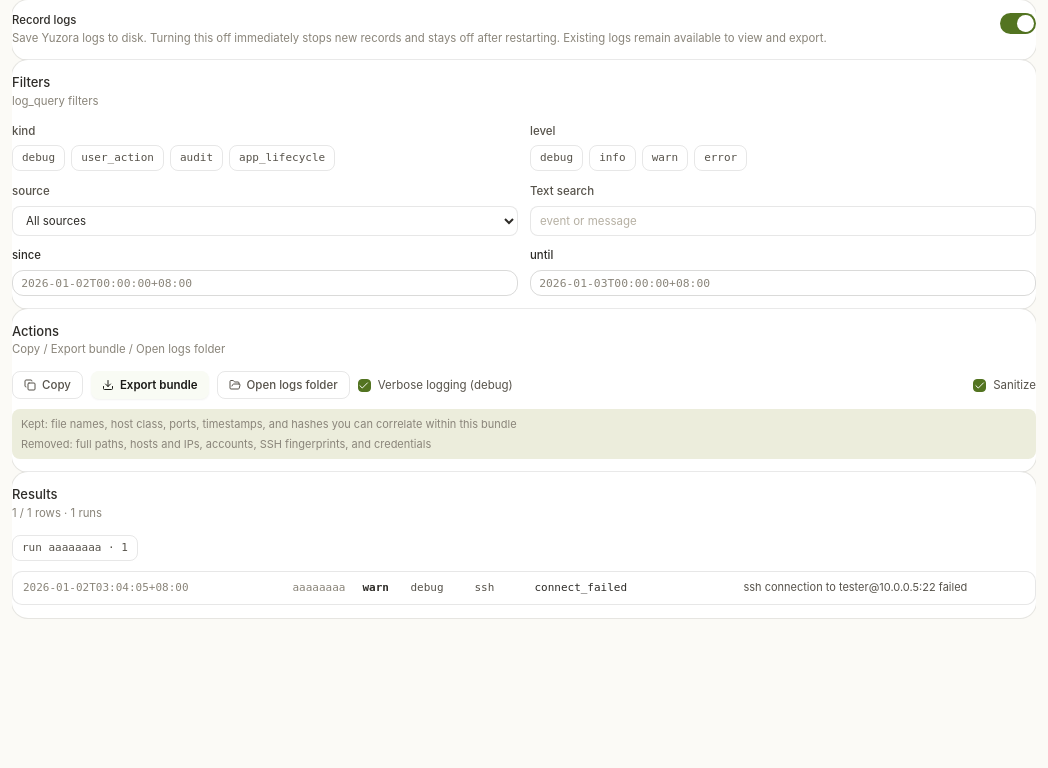
Scenario: LogsSection recording › disables recording, preserves verbose preference, and still shows existing logs
Expected: the button with test id "log-row-connect_failed" is shown, [13, 572, 1035, 604]
Expected: the checkbox named "Verbose logging (debug)" next to "Verbose logging (debug)" is checked, [358, 379, 371, 392]
Click the switch named "Record logs": click(1018, 24) [1000, 13, 1036, 34]
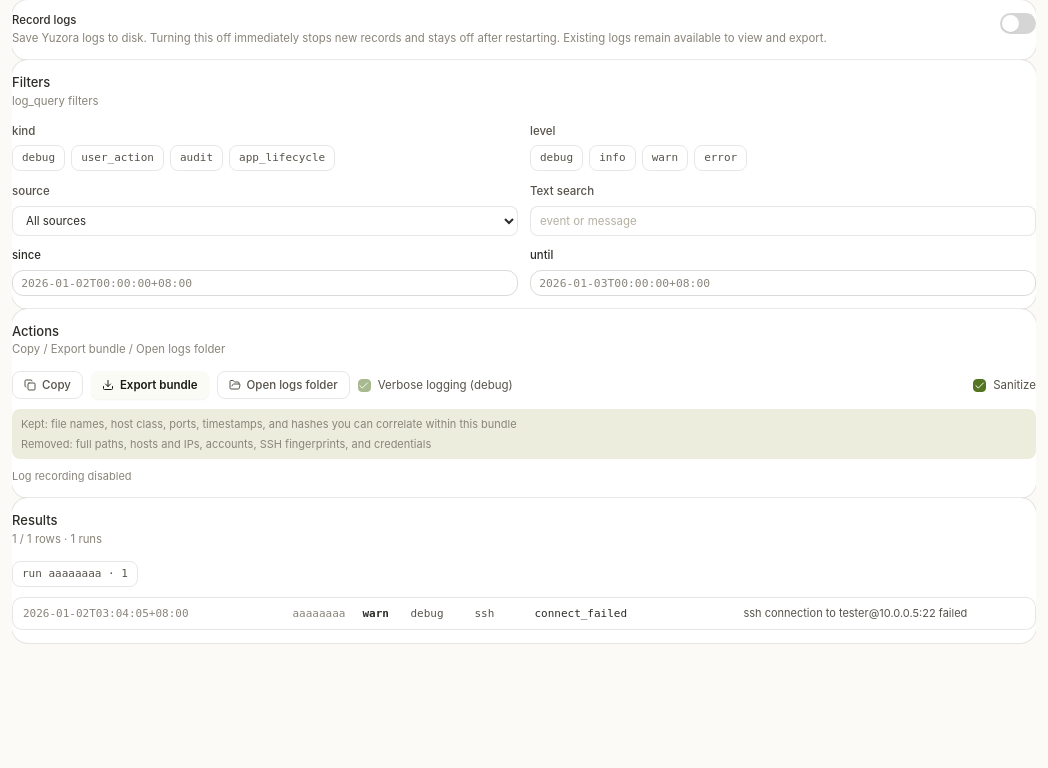
Expected: the checkbox named "Verbose logging (debug)" next to "Verbose logging (debug)" is checked, [358, 379, 371, 392]
Now the switch named "Record logs" is not checked
Now the checkbox named "Verbose logging (debug)" next to "Verbose logging (debug)" is disabled, box [358, 379, 371, 392]
Click the switch named "Record logs": click(1018, 24) [1000, 13, 1036, 34]
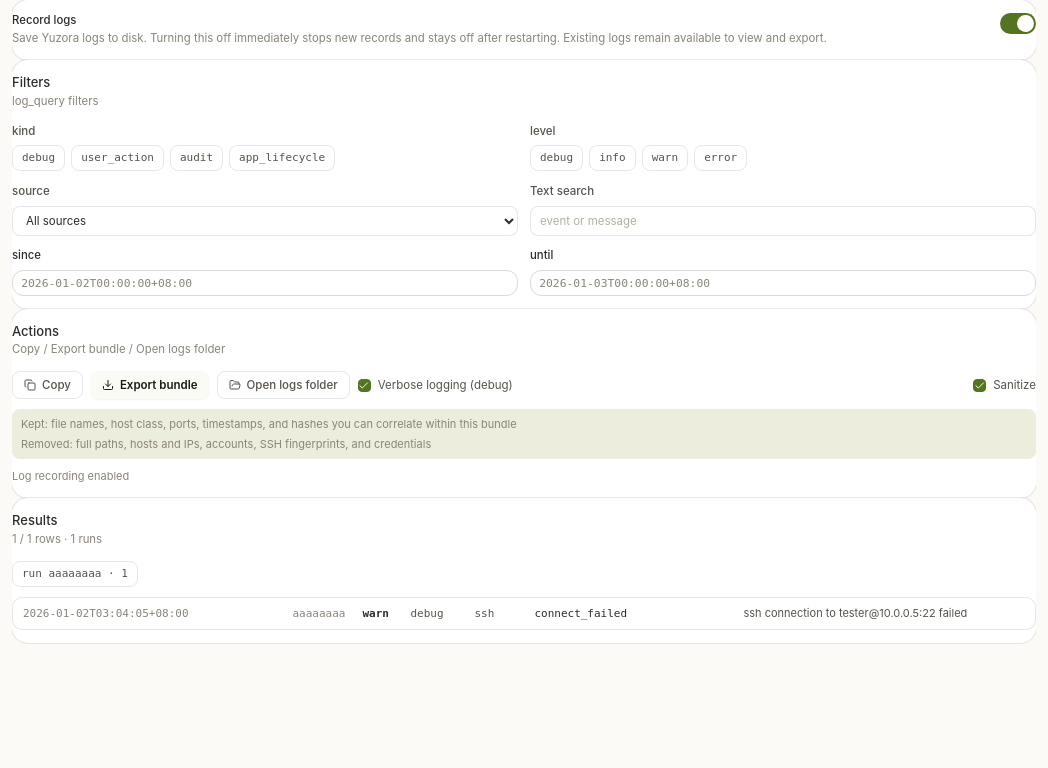
Expected: the checkbox named "Verbose logging (debug)" next to "Verbose logging (debug)" is checked, [358, 379, 371, 392]
Now the switch named "Record logs" is checked, box [1000, 13, 1036, 34]
Now the checkbox named "Verbose logging (debug)" next to "Verbose logging (debug)" is enabled, box [358, 379, 371, 392]
